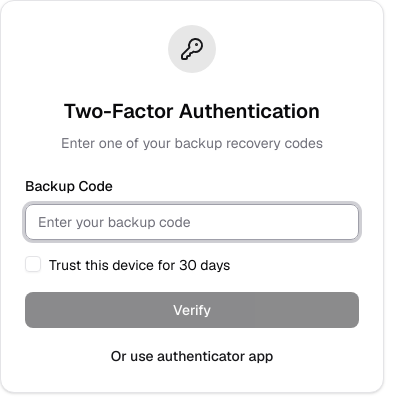
Scenario: 2FA Verification Components › BackupCodeVerificationForm › verify button is disabled while loading
The width and height of the screenshot is (401, 411).
In the field with placeholder "Enter your backup code": (192, 222) x1=25 y1=204 x2=359 y2=240, type "BACKUP123"
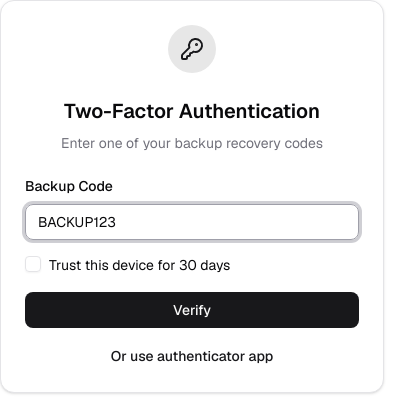
Click the button "Verify": (192, 310) x1=25 y1=292 x2=359 y2=328
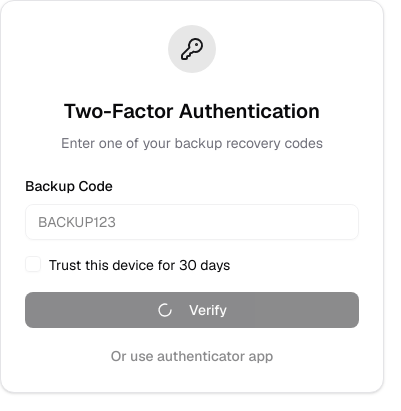
Expected: the button "Verify" is disabled, x1=25 y1=292 x2=359 y2=328
